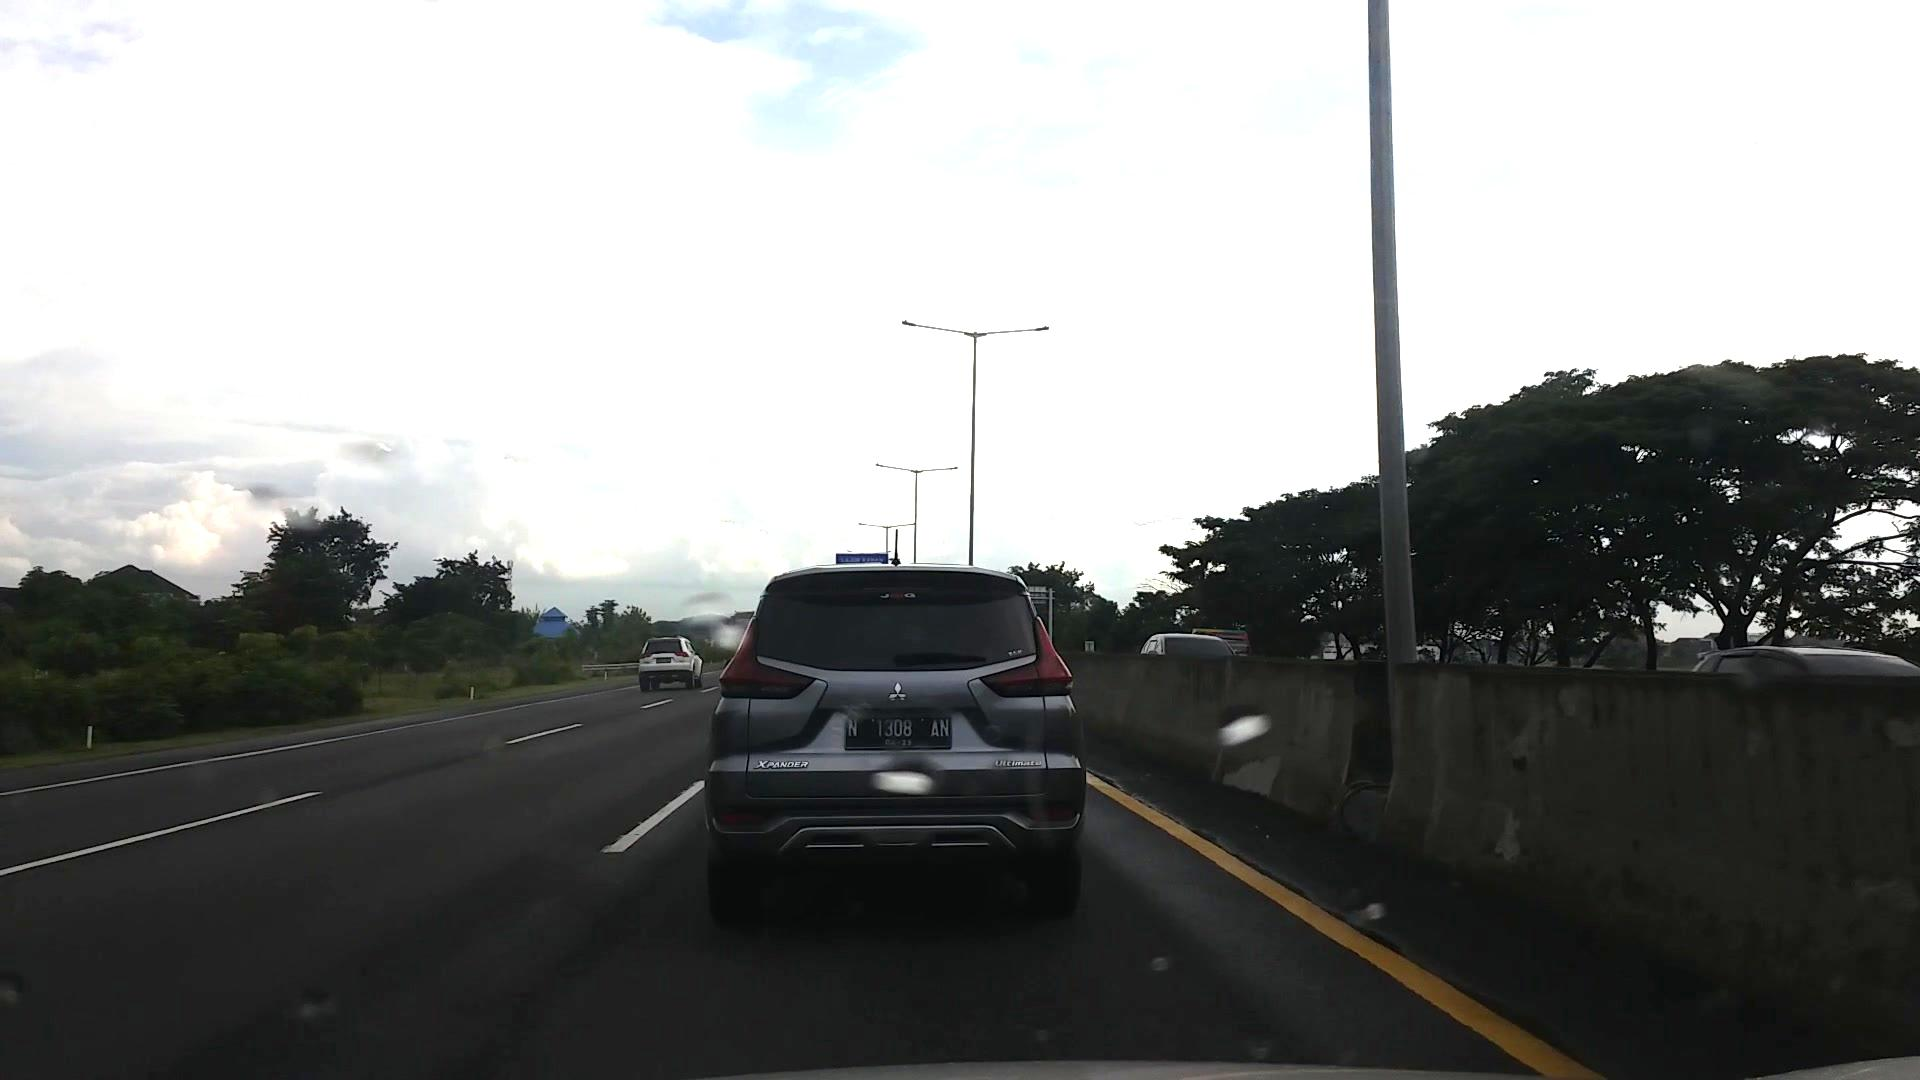plate_positive: (845, 716, 951, 749)
